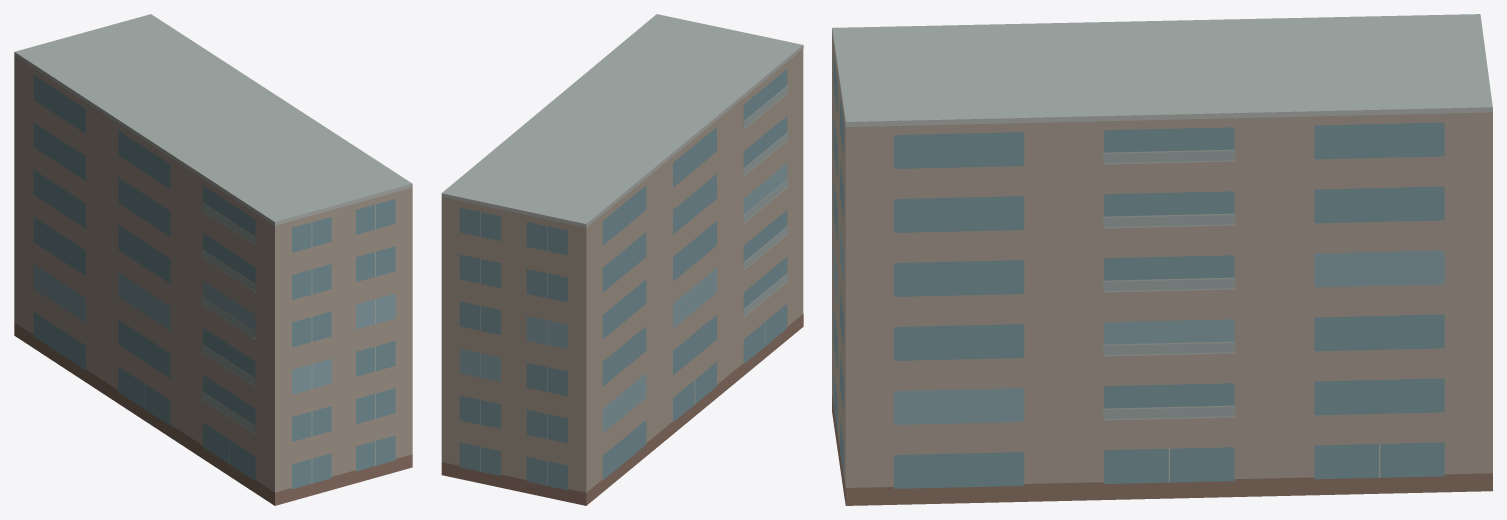
File: survey-upis-32884986.glb
3 views of the same model, side by side, from view 1: azimuth 30°, elevation 25°; view 2: azimuth 150°, elevation 25°; view 3: azimuth 270°, elevation 25° (orthographic). The views are drawn at different scales.
Visible parts, largest first — view 1: survey-upis-32884986.tmp; view 2: survey-upis-32884986.tmp; view 3: survey-upis-32884986.tmp.
Part boxes in pixels (left/top/right/bottom): survey-upis-32884986.tmp: left=14, top=14, right=412, bottom=505; survey-upis-32884986.tmp: left=441, top=14, right=803, bottom=505; survey-upis-32884986.tmp: left=832, top=14, right=1492, bottom=505.
Bounding box in the file's own units: 11.05 × 18.3 × 28.55.
